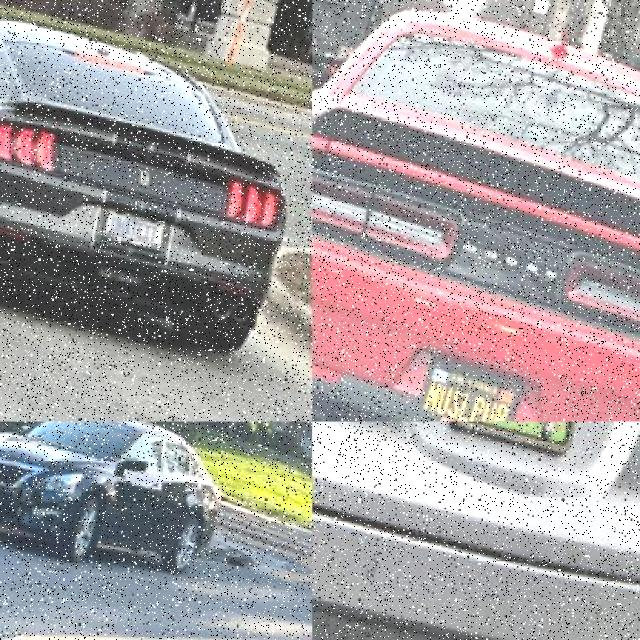licenseplate: (446, 421, 611, 514), (420, 350, 532, 422), (108, 198, 174, 244)
